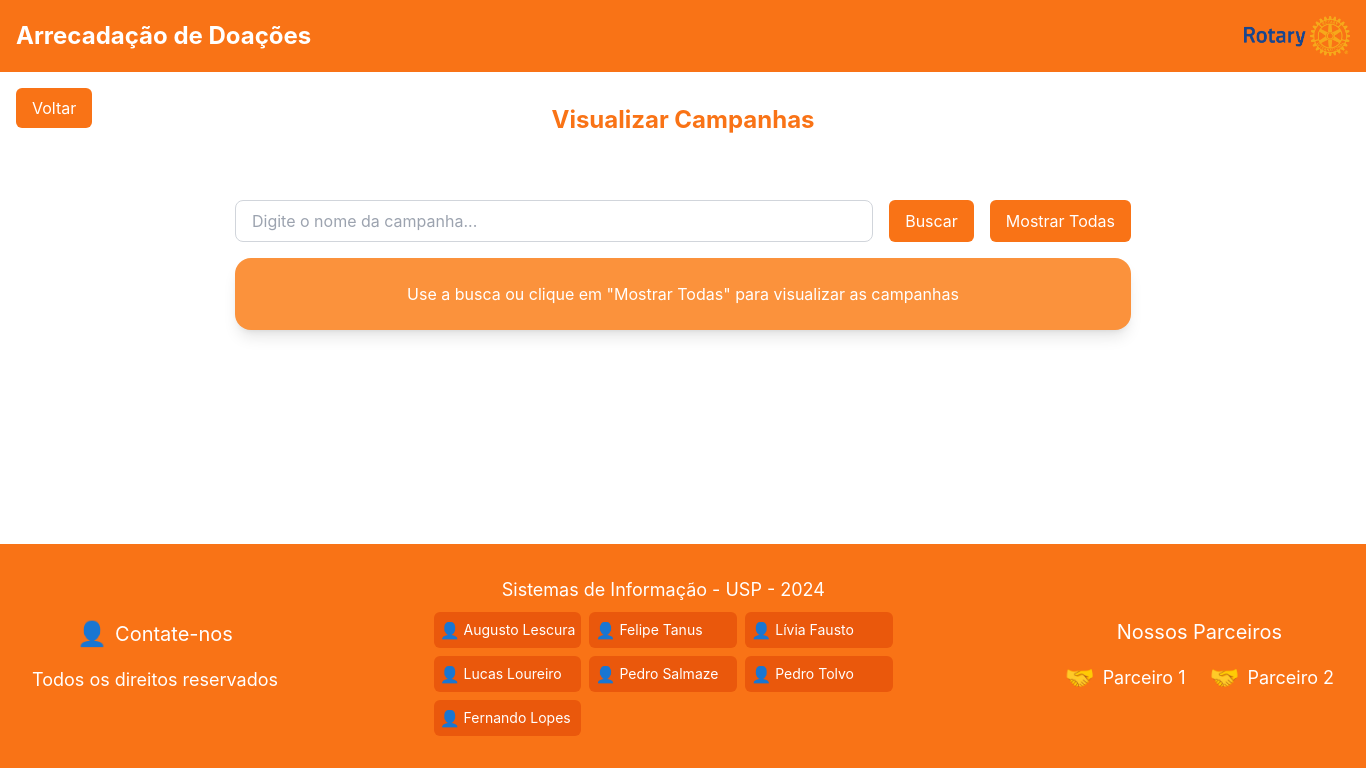
ViewCampaignsPage › deve mostrar mensagem quando nenhuma campanha é encontrada
Click the button "Mostrar Todas" at point(1060, 221), box [990,200,1131,242]
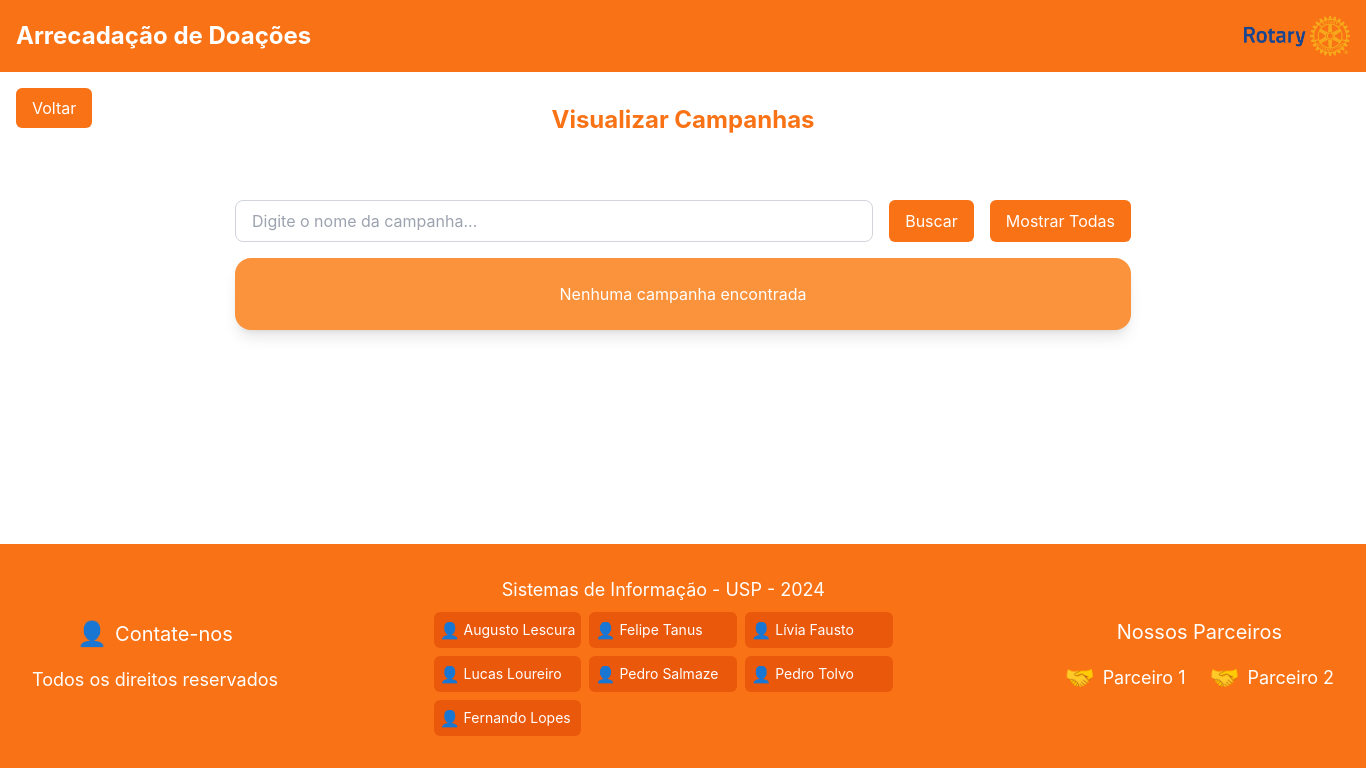
Expected: the text "Nenhuma campanha encontrada" is shown, [560,284,806,304]
